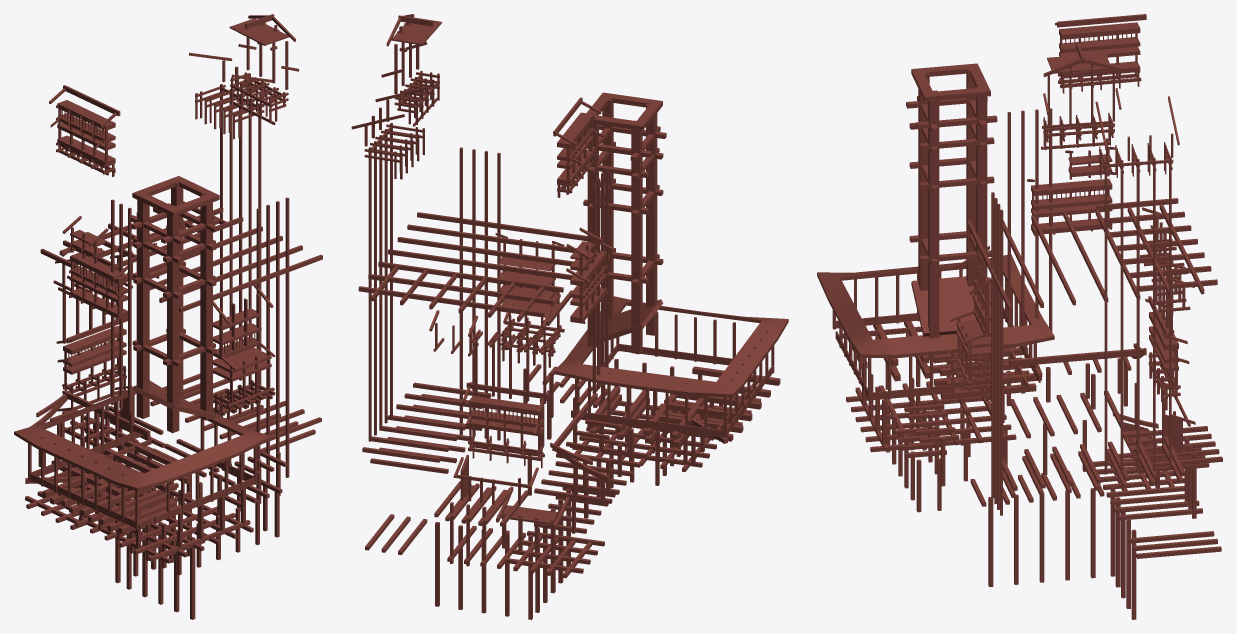
Rendered from structure bois  pilier 02.fbx.
The picture shows the model from 3 angles, left to right: view 1: azimuth 30°, elevation 25°; view 2: azimuth 150°, elevation 25°; view 3: azimuth 270°, elevation 25°; orthographic projection. The views are drawn at different scales.
Visible parts, largest first — view 1: Cube.219, Cube.414, Plane.482, Cube.375, Cube.644, Plane.417, Cube.249, Plane.383, Plane.378, Plane.379, Plane.393, Plane.858 (+42 smaller); view 2: Cube.644, Cube.219, Cube.414, Cube.375, Plane.482, Plane.862, Plane.417, Plane.733, Plane.211, Plane.370, Plane.453, Plane.379 (+25 smaller); view 3: Cube.219, Cube.414, Cube.375, Plane.733, Plane.482, Cube.644, Cube.643, Plane.417, Plane.385, Plane.858, Cube.222, Plane.361 (+39 smaller).
Boxes of the visible parts, x1,y1,x2,y2 form: Cube.219: (137, 182, 212, 433); Cube.414: (14, 380, 271, 491); Plane.482: (256, 197, 289, 483); Cube.375: (220, 84, 261, 385); Cube.644: (59, 208, 322, 312); Plane.417: (111, 199, 138, 417); Cube.249: (213, 308, 271, 381); Plane.383: (75, 486, 250, 561); Plane.378: (30, 436, 138, 529); Plane.379: (42, 473, 186, 534); Plane.393: (154, 447, 257, 523); Plane.858: (126, 522, 195, 619); Cube.644: (358, 212, 600, 317); Cube.219: (587, 98, 657, 353); Cube.414: (554, 296, 788, 397); Cube.375: (368, 122, 392, 441); Plane.482: (459, 147, 500, 440); Plane.862: (362, 382, 491, 462); Plane.417: (592, 167, 608, 394); Plane.733: (365, 514, 591, 578); Plane.211: (505, 487, 615, 573); Plane.370: (571, 372, 726, 437); Plane.453: (534, 447, 647, 503); Plane.379: (655, 366, 780, 432); Cube.219: (918, 69, 987, 338); Cube.414: (817, 254, 1054, 358); Cube.375: (1104, 156, 1171, 474); Plane.733: (1093, 458, 1221, 558); Plane.482: (991, 192, 1003, 515); Cube.644: (967, 204, 1204, 310); Cube.643: (1096, 198, 1217, 291); Plane.417: (1007, 108, 1052, 331); Plane.385: (846, 387, 1016, 452); Plane.858: (988, 488, 1095, 587); Cube.222: (911, 276, 975, 336); Plane.361: (1110, 486, 1136, 619).
Size of the model in its own units: 65.66 by 110 by 68.42.
